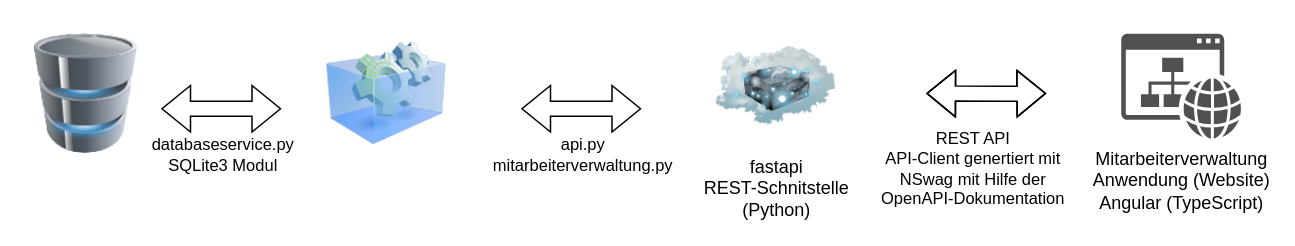
Some shapes in this 1295 by 246 pixel diagram are drawn without their labels. The box of each missing label's shape, as (x1, y1, x2, y2) in pixels:
MitarbeiterVerwaltung Modul (Python): (326, 33, 446, 153)
SQLite3 Datenbank: (26, 33, 146, 153)
